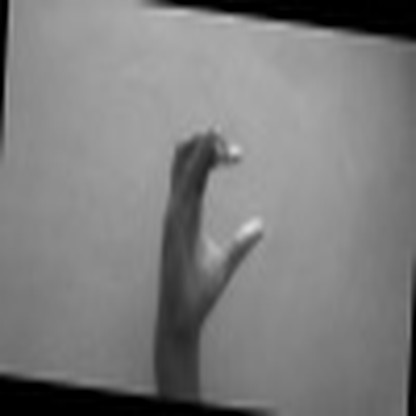c: (156, 115, 269, 314)
